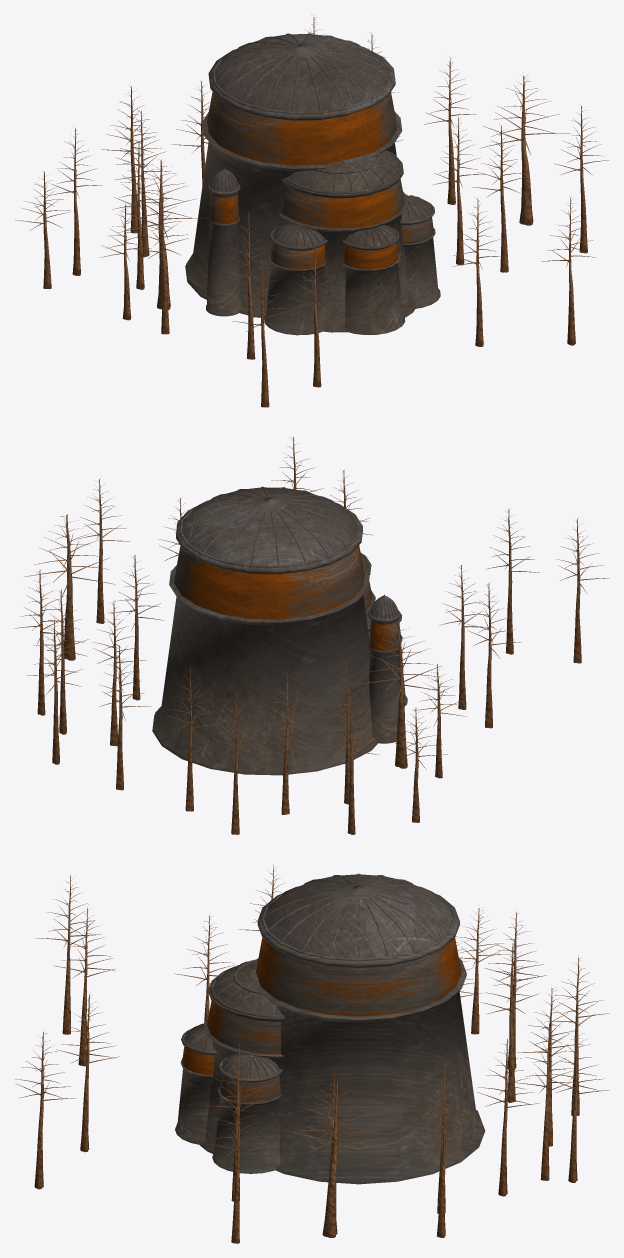
File: pałac_rady_p3.FBX
3 renders of one model, top to bottom at view 1: azimuth 30°, elevation 25°; view 2: azimuth 150°, elevation 25°; view 3: azimuth 270°, elevation 25°, orthographic. The views are drawn at different scales.
Parts seen in each view (by area): view 1: complex_simple_loaded, Object001, Object002, Foliage002, Foliage007, Object004, Object005, Foliage009, Foliage023, Foliage004, Foliage011, Foliage022 (+13 smaller); view 2: complex_simple_loaded, Object001, Foliage007, Foliage002, Foliage015, Foliage017, Foliage009, Foliage003, Foliage014, Foliage018, Foliage019, Foliage023 (+11 smaller); view 3: complex_simple_loaded, Object001, Object002, Foliage002, Object006, Foliage020, Foliage019, Foliage021, Foliage023, Foliage006, Foliage017, Foliage022 (+12 smaller).
Part boxes in pixels (bbox=[...]): complex_simple_loaded: bbox=[185, 33, 440, 335]; Object001: bbox=[207, 92, 396, 165]; Object002: bbox=[282, 179, 404, 228]; Foliage002: bbox=[480, 72, 570, 225]; Foliage007: bbox=[117, 159, 207, 309]; Object004: bbox=[270, 242, 325, 269]; Object005: bbox=[344, 243, 398, 269]; Foliage009: bbox=[132, 187, 188, 334]; Foliage023: bbox=[232, 259, 287, 407]; Foliage004: bbox=[472, 124, 527, 272]; Foliage011: bbox=[221, 212, 276, 359]; Foliage022: bbox=[288, 239, 343, 387]; complex_simple_loaded: bbox=[152, 486, 407, 775]; Object001: bbox=[174, 545, 364, 619]; Foliage007: bbox=[356, 622, 447, 768]; Foliage002: bbox=[24, 514, 115, 660]; Foliage015: bbox=[259, 669, 312, 814]; Foliage017: bbox=[27, 619, 82, 764]; Foliage009: bbox=[467, 583, 520, 728]; Foliage003: bbox=[110, 555, 163, 700]; Foliage014: bbox=[212, 690, 266, 834]; Foliage018: bbox=[99, 645, 151, 790]; Foliage019: bbox=[33, 589, 89, 734]; Foliage023: bbox=[556, 518, 609, 663]; complex_simple_loaded: bbox=[175, 873, 485, 1184]; Object001: bbox=[256, 938, 461, 1016]; Object002: bbox=[207, 1001, 345, 1054]; Foliage002: bbox=[283, 1077, 387, 1237]; Object006: bbox=[219, 1074, 280, 1103]; Foliage020: bbox=[15, 1032, 75, 1189]; Foliage019: bbox=[477, 1039, 539, 1196]; Foliage021: bbox=[56, 994, 119, 1152]; Foliage023: bbox=[36, 874, 101, 1034]; Foliage006: bbox=[205, 1085, 268, 1243]; Foliage017: bbox=[547, 1022, 608, 1182]; Foliage022: bbox=[53, 905, 115, 1066].
Size of the model in its own units: 34.03 by 34.52 by 17.
4 materials, 4 textured.
